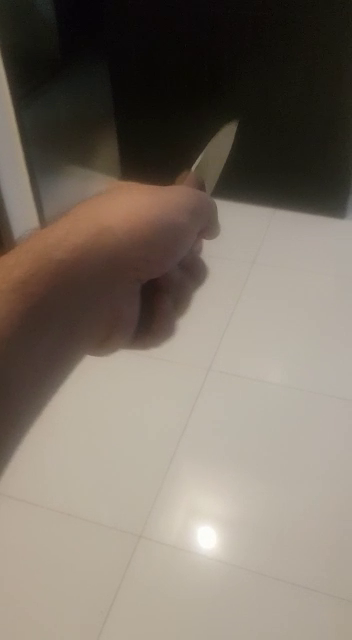knife: (31, 95, 285, 375)
